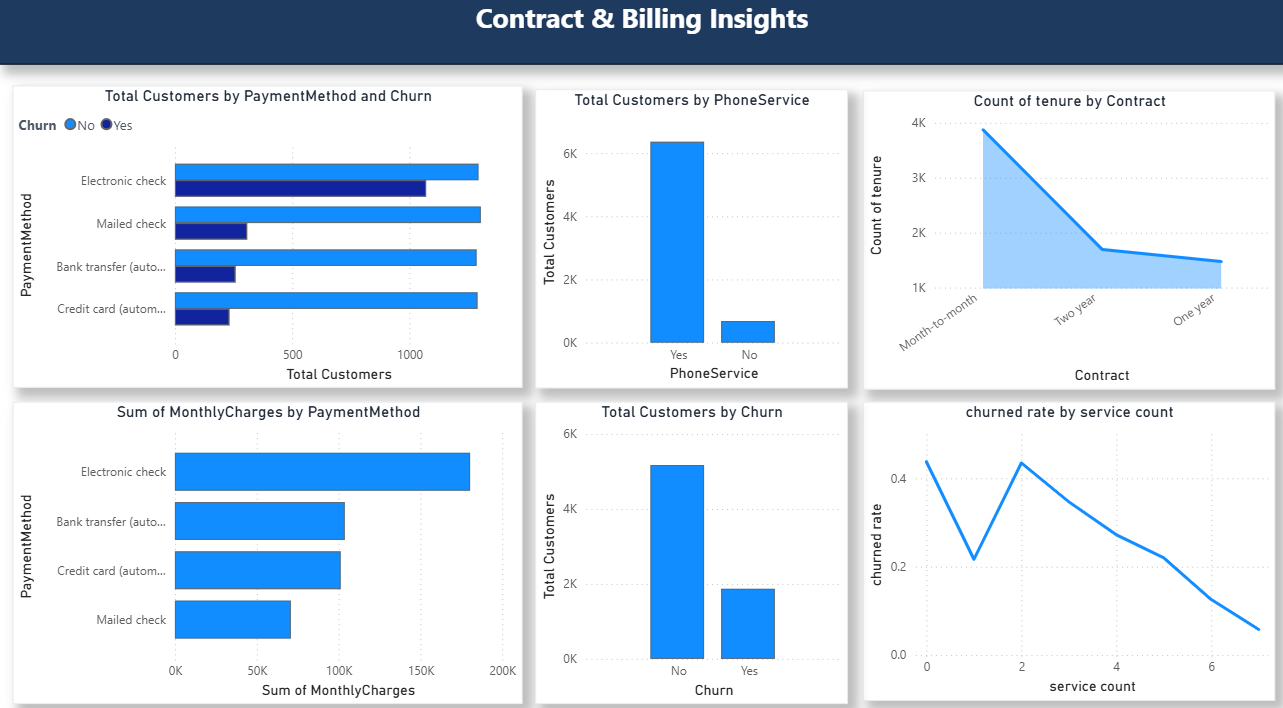

This screenshot's page, from the dashboard's own definition file:
{"tool":"powerbi","page":{"name":"Contract & Billing Insights","canvas":[1280,720],"ordinal":2},"visuals":[{"type":"clusteredBarChart","fields":{"Category":["Telco-Customer-Churn.PaymentMethod"],"Series":["Telco-Customer-Churn.Churn"],"Y":["Telco-Customer-Churn.Total Customers"]},"box":[13.7,92.1,507.5,301],"z":0},{"type":"clusteredBarChart","fields":{"Y":["Sum(Telco-Customer-Churn.MonthlyCharges)"],"Category":["Telco-Customer-Churn.PaymentMethod"]},"box":[13.7,406.8,507.5,301],"z":1000},{"type":"areaChart","fields":{"Category":["Telco-Customer-Churn.Contract"],"Y":["CountNonNull(Telco-Customer-Churn.tenure)"]},"box":[859.6,97,410.5,297.3],"z":2000},{"type":"clusteredColumnChart","fields":{"Y":["Telco-Customer-Churn.Total Customers"],"Category":["WA_Fn-UseC_-Telco-Customer-Churn (1).PhoneService"]},"box":[533.7,95.8,311,297.3],"z":3000},{"type":"lineChart","fields":{"Category":["Telco-Customer-Churn.service count"],"Y":["Telco-Customer-Churn.churned rate"]},"box":[859.6,406.8,410.5,297.3],"z":4000},{"type":"clusteredColumnChart","fields":{"Category":["Telco-Customer-Churn.Churn"],"Y":["Telco-Customer-Churn.Total Customers"]},"box":[533.7,406.8,311,301],"z":5000},{"type":"textbox","box":[0,0,1280,70.9],"z":6000}]}

Visuals, with their boxes in screenshot pixels (x1, y1, x2, y2), scaled from the page's 1280x720 canvas onto the 1283x708 screenshot:
clusteredBarChart - Telco-Customer-Churn.PaymentMethod x Telco-Customer-Churn.Churn: 14:91:522:387
clusteredBarChart - Sum(Telco-Customer-Churn.MonthlyCharges) x Telco-Customer-Churn.PaymentMethod: 14:400:522:696
areaChart - Telco-Customer-Churn.Contract x CountNonNull(Telco-Customer-Churn.tenure): 862:95:1273:388
clusteredColumnChart - Telco-Customer-Churn.Total Customers x WA_Fn-UseC_-Telco-Customer-Churn (1).PhoneService: 535:94:847:387
lineChart - Telco-Customer-Churn.service count x Telco-Customer-Churn.churned rate: 862:400:1273:692
clusteredColumnChart - Telco-Customer-Churn.Churn x Telco-Customer-Churn.Total Customers: 535:400:847:696
textbox: 0:0:1282:70
